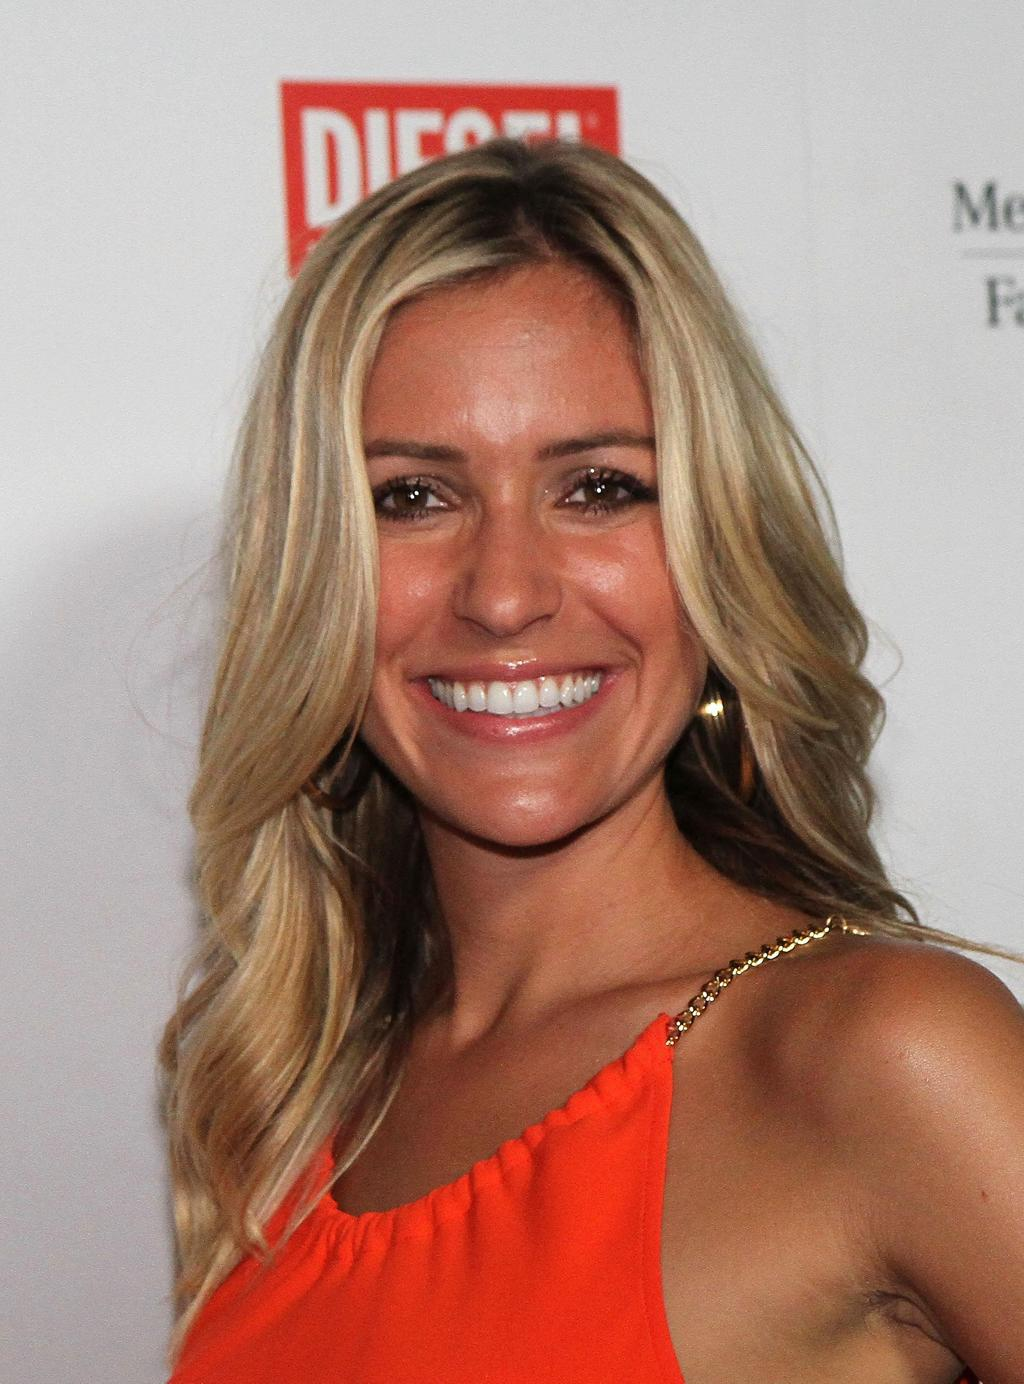face: (317, 241, 717, 849)
